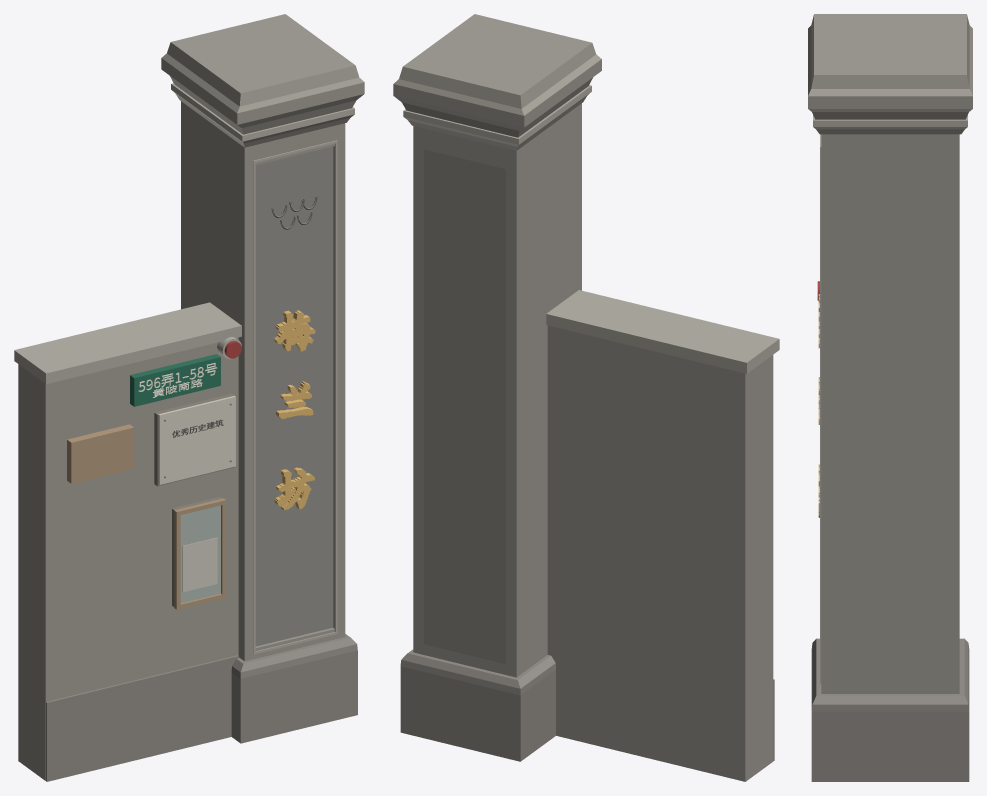
File: huangpu-meilan-lane-named-gatepost-lod.glb
3 views of the same model, side by side, from view 1: azimuth 30°, elevation 25°; view 2: azimuth 150°, elevation 25°; view 3: azimuth 270°, elevation 25° (orthographic). The views are drawn at different scales.
Parts seen in each view (by area): view 1: 梅兰坊黄陂南路596弄题名门柱与铭牌墙; view 2: 梅兰坊黄陂南路596弄题名门柱与铭牌墙; view 3: 梅兰坊黄陂南路596弄题名门柱与铭牌墙.
Part boxes in pixels (box(x1,y1,x2,y2)): 梅兰坊黄陂南路596弄题名门柱与铭牌墙: box(14, 14, 364, 781); 梅兰坊黄陂南路596弄题名门柱与铭牌墙: box(393, 14, 779, 781); 梅兰坊黄陂南路596弄题名门柱与铭牌墙: box(808, 14, 972, 781).
Bounding box in the file's own units: 1.85 × 3.71 × 0.785.
